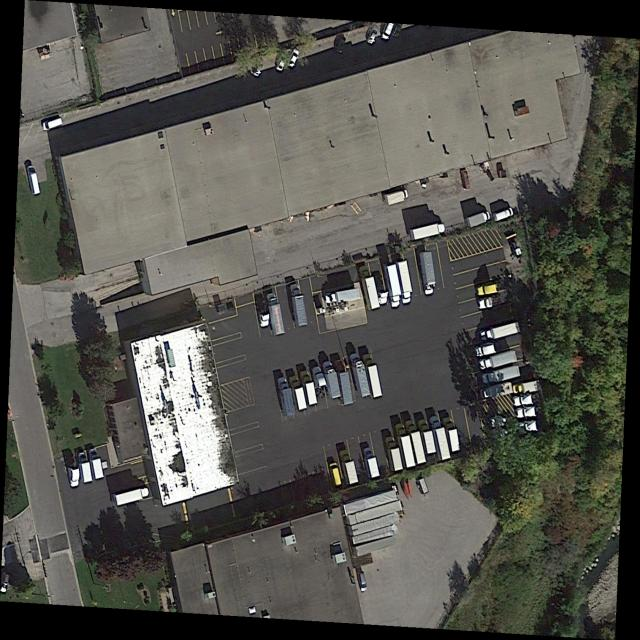large-vehicle: (356, 264, 380, 311), (404, 418, 427, 466), (362, 350, 383, 401), (334, 357, 355, 407), (394, 422, 416, 469), (350, 352, 371, 400), (382, 260, 402, 310), (429, 414, 450, 461), (288, 282, 309, 328), (112, 485, 151, 509), (396, 259, 414, 306), (480, 322, 520, 343), (322, 286, 361, 307), (266, 291, 284, 336), (322, 361, 342, 401), (479, 350, 517, 371), (383, 435, 404, 473), (420, 251, 437, 297), (482, 365, 521, 385), (277, 377, 296, 417), (476, 293, 513, 313), (339, 449, 359, 486), (410, 222, 446, 242), (417, 418, 436, 455), (288, 375, 307, 412), (299, 369, 318, 406), (476, 277, 510, 297), (443, 417, 461, 453), (87, 447, 105, 480), (76, 451, 93, 485), (363, 447, 380, 480), (513, 380, 541, 397), (466, 211, 491, 229), (474, 340, 500, 357), (385, 189, 409, 207), (494, 207, 514, 223)
small-vehicle: (26, 163, 41, 197), (328, 462, 344, 489), (40, 117, 64, 132), (334, 34, 348, 55), (357, 569, 369, 593), (288, 47, 301, 68), (252, 57, 265, 77), (366, 25, 379, 45), (276, 51, 288, 72)
